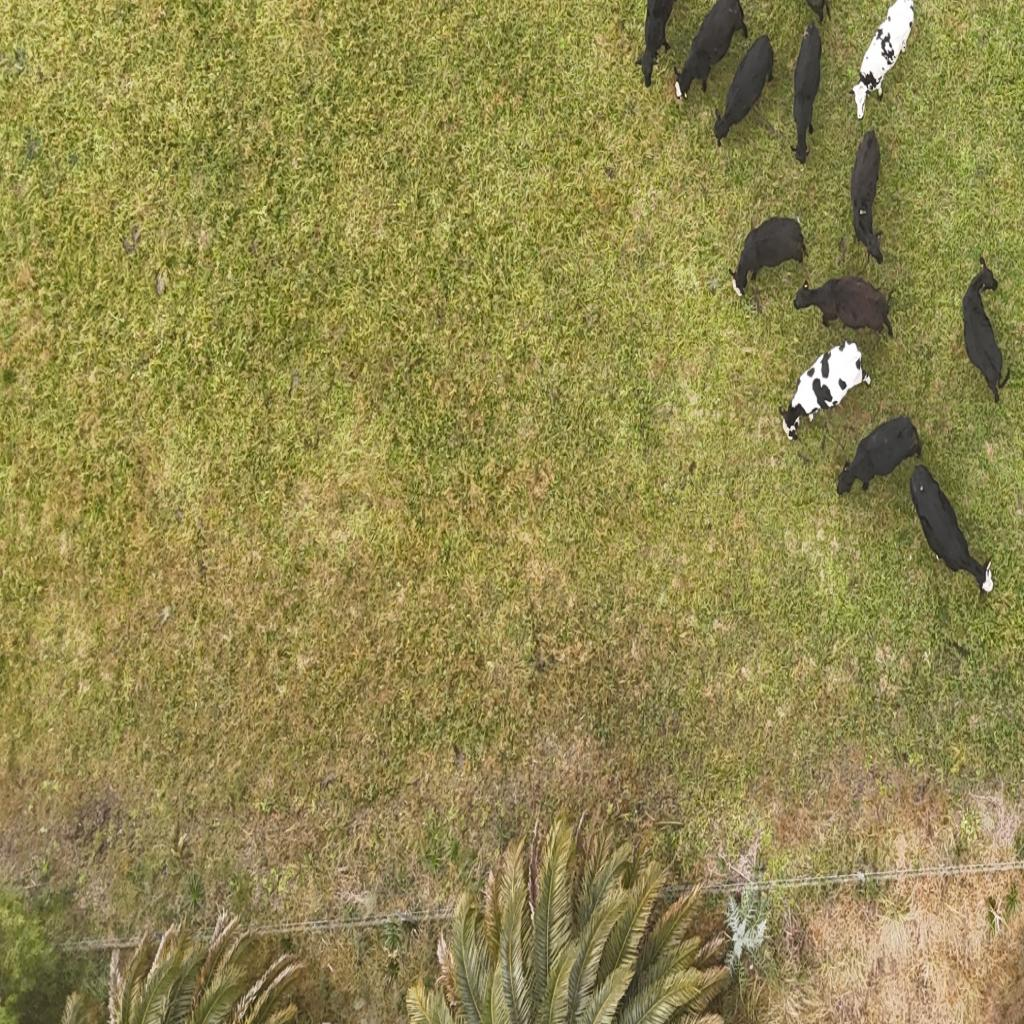cow: (908, 466, 992, 596), (779, 340, 872, 443), (848, 0, 916, 122), (670, 0, 747, 101), (710, 32, 774, 151), (836, 412, 922, 498), (962, 260, 1010, 404), (793, 274, 896, 341), (730, 214, 809, 301), (849, 128, 883, 268), (792, 20, 822, 166), (636, 0, 680, 86)
